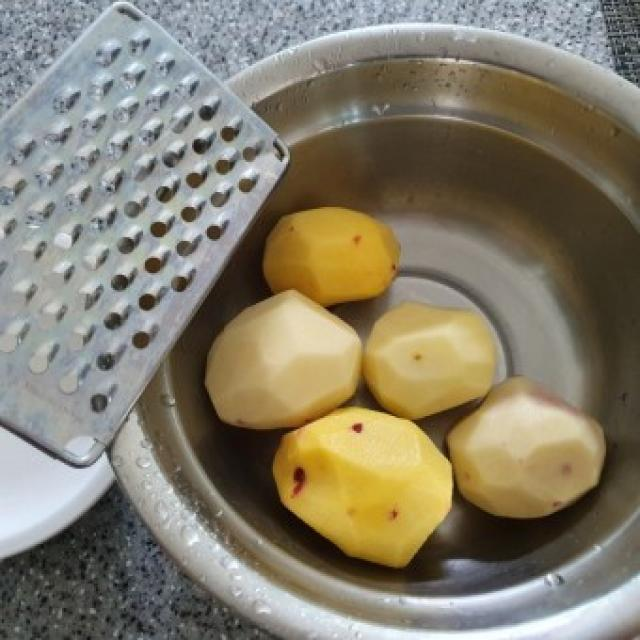potato: (270, 403, 458, 568), (444, 368, 611, 522), (205, 287, 366, 437), (366, 297, 500, 420), (261, 201, 407, 308)
